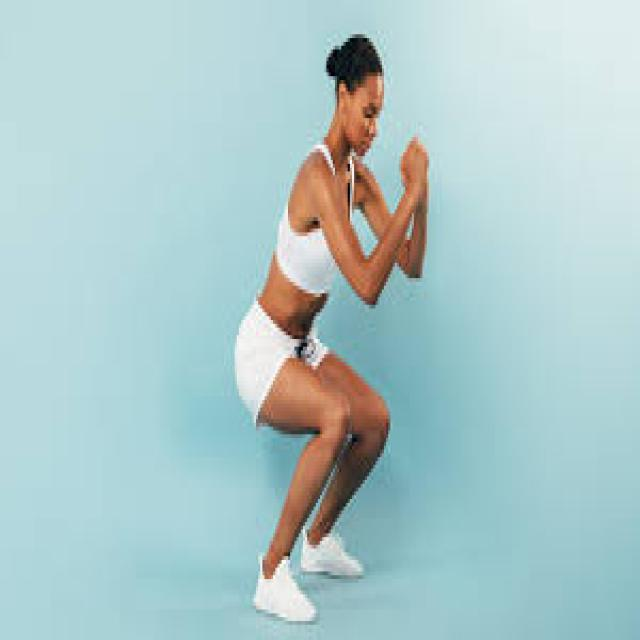squat: (233, 32, 432, 630)
